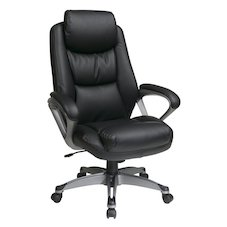chair: (27, 2, 191, 225)
